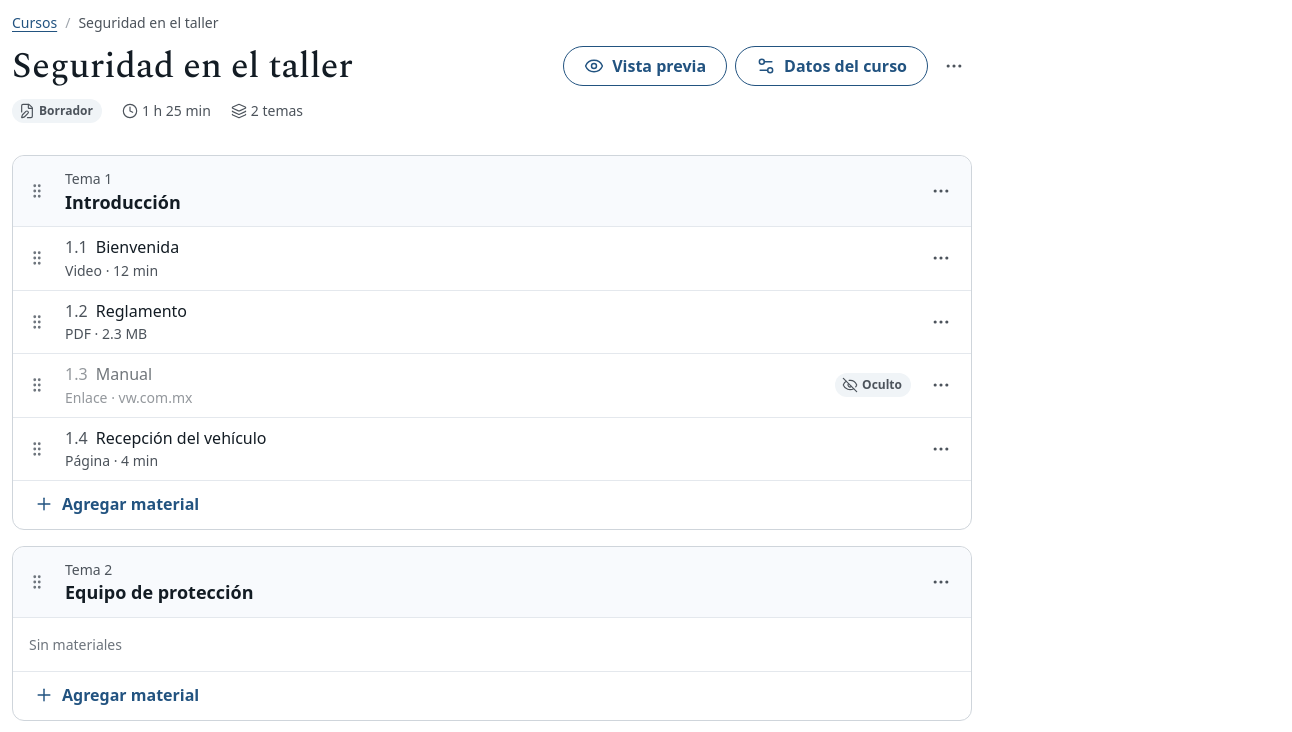
Scenario: Editor de contenido del curso › si una acción del menú falla, lo avisa con la opción de recargar
This screenshot has width=1292, height=732.
Click the button named "Acciones del tema Introducción". click: (941, 191)
box: [923,173,959,209]
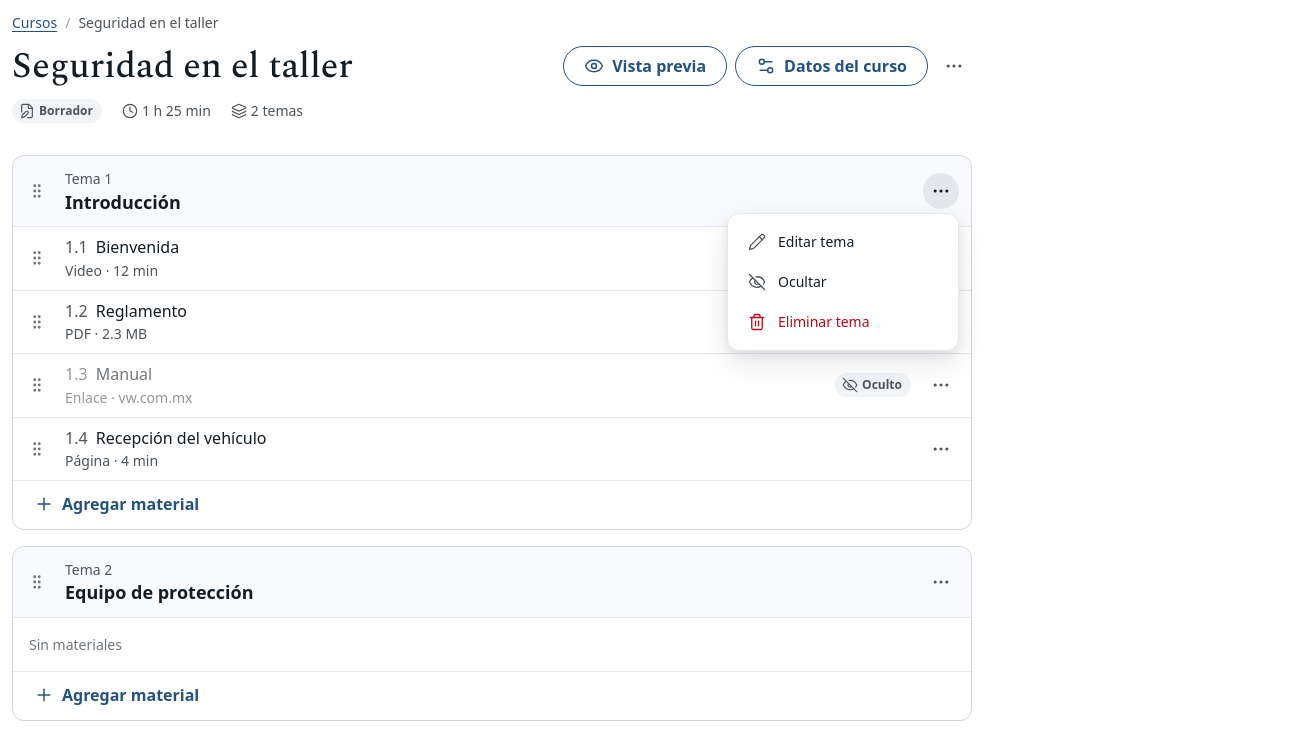
Click the button "Ocultar". click: (843, 282)
box: [736,262,950,302]
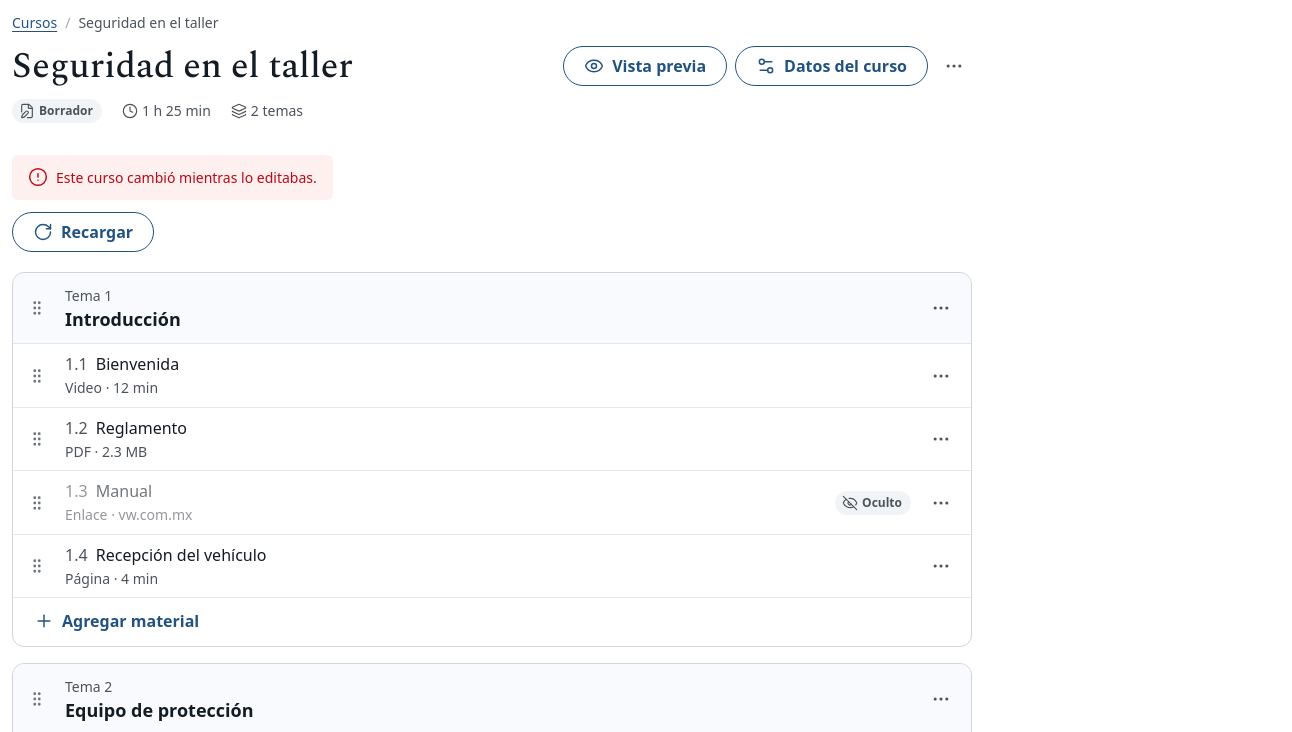
Expected: the text "Este curso cambió mientras lo editabas." is shown, [56,167,317,188]
Expected: the button "Recargar" is shown, [12,212,154,252]
